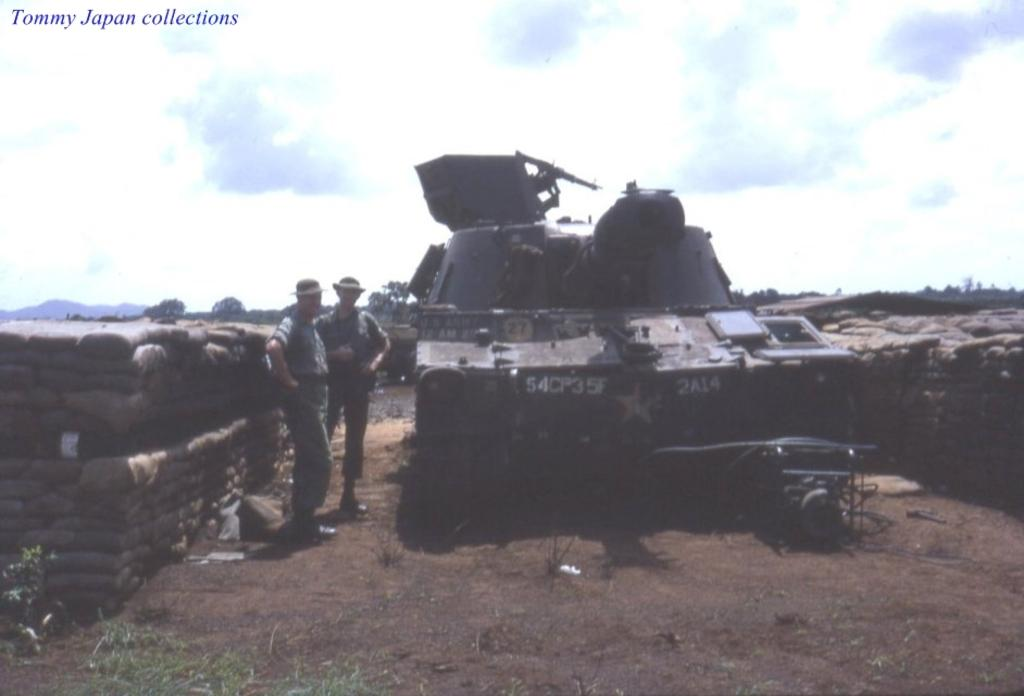Tank: (403, 154, 864, 535)
